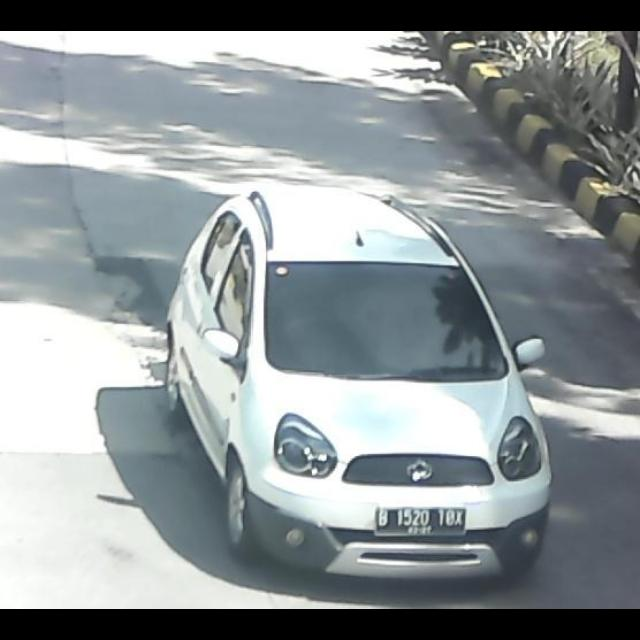plate: (373, 505, 469, 539)
